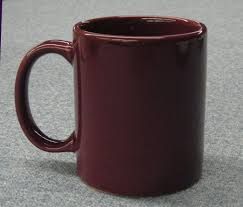cup: (13, 14, 216, 200)
